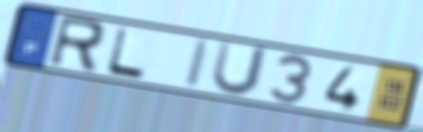3: (266, 53, 315, 105)
4: (321, 63, 363, 113)
I: (182, 37, 216, 91)
L: (103, 25, 149, 82)
R: (45, 14, 108, 76)
U: (208, 38, 273, 99)
